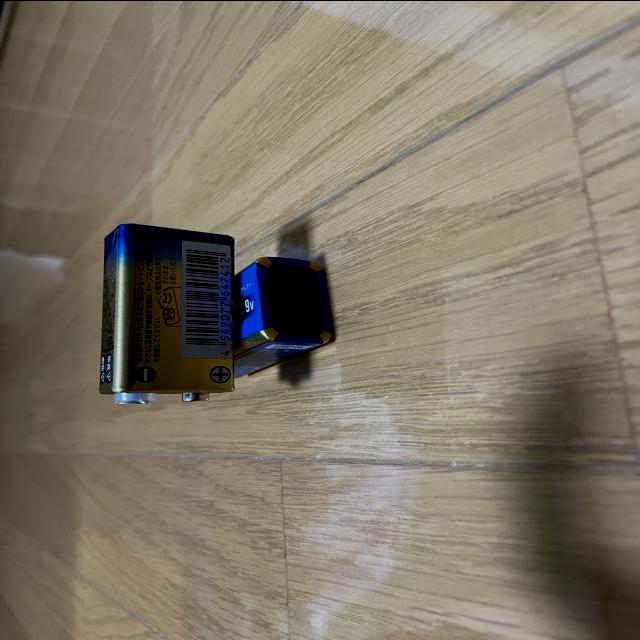9V: (98, 220, 233, 403), (210, 253, 331, 379)
